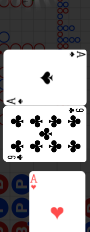4C: (67, 107, 84, 115)
AC: (68, 51, 85, 60)
AH: (29, 174, 38, 192)
